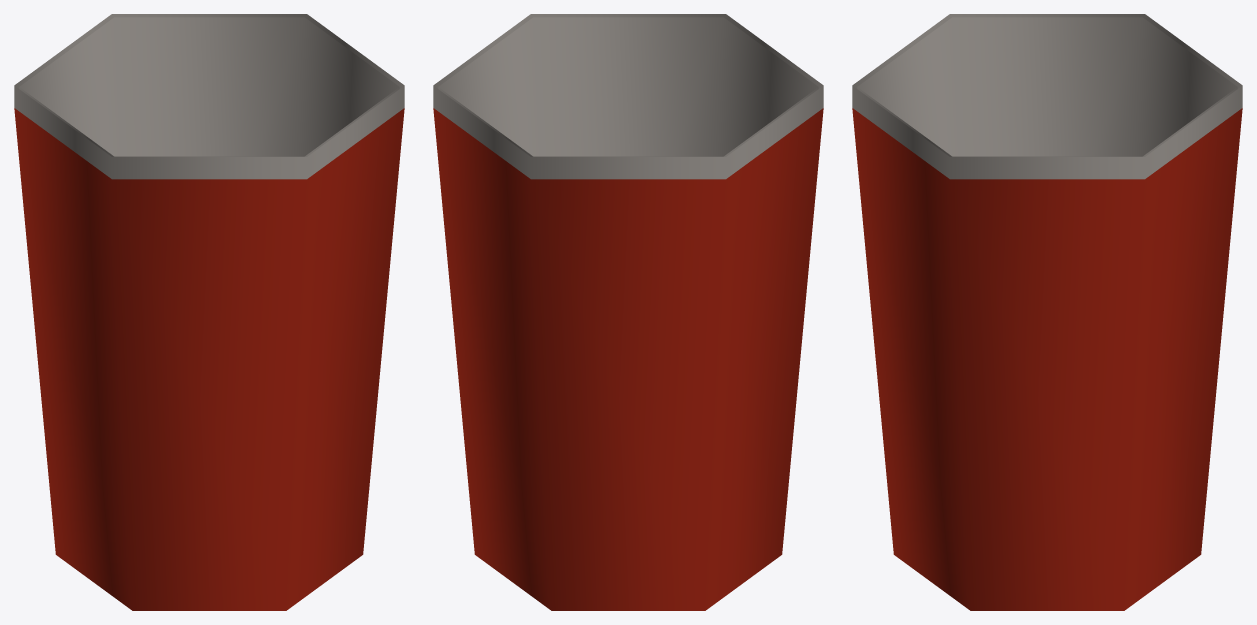
The model's file is beer_cup.gltf.
3 views of the same model, side by side, from view 1: azimuth 30°, elevation 25°; view 2: azimuth 150°, elevation 25°; view 3: azimuth 270°, elevation 25° (orthographic).
Parts seen in each view (by area): view 1: Cup; view 2: Cup; view 3: Cup.
Part boxes in pixels (x1,y1,x2,y2): Cup: (14,14,404,610); Cup: (433,14,823,610); Cup: (852,14,1242,610).
Size of the model in its own units: 0.1949 by 0.2985 by 0.2251.
